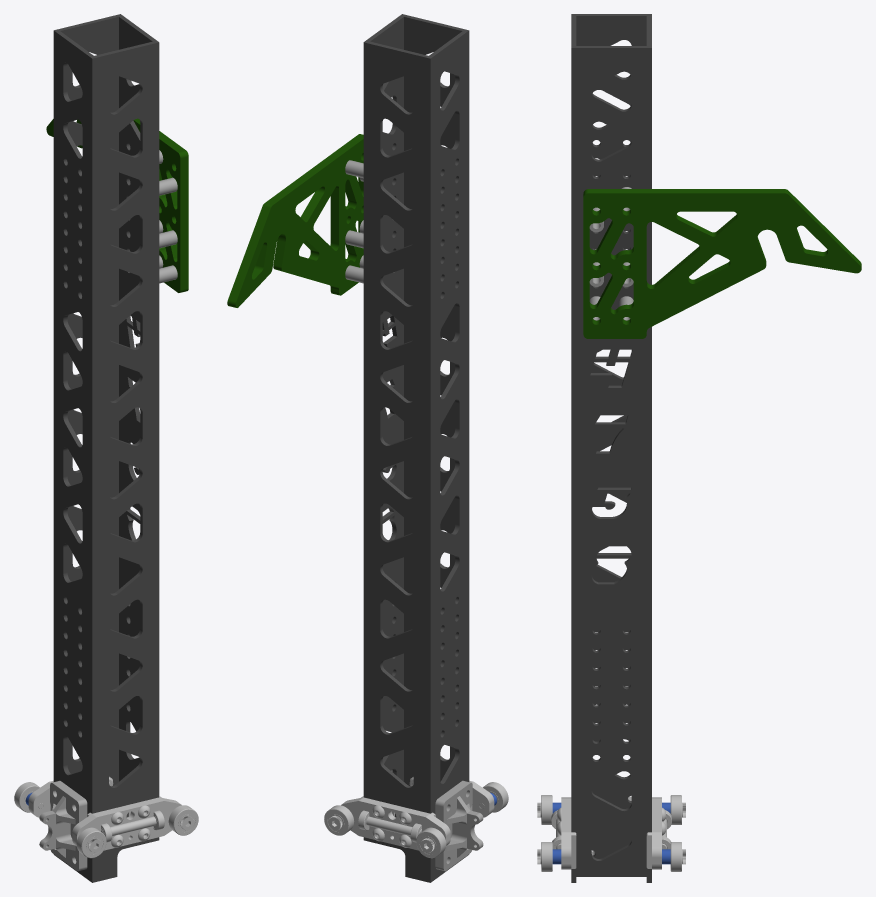
3 renders of one model, left to right at view 1: azimuth 30°, elevation 25°; view 2: azimuth 150°, elevation 25°; view 3: azimuth 270°, elevation 25°, orthographic. The views are drawn at different scales.
Parts seen in each view (by area): view 1: Climb Sliding Tube Right, Part 1, Chain Block, Sliding Bearing Block Plate - SLIDE-001 (×2), TTB-0038_75OD_25ID_28WD (×3), .25diameter_1.75inSteelDowel_SLIDE-002; view 2: Climb Sliding Tube Right, Part 1, Chain Block, Sliding Bearing Block Plate - SLIDE-001 (×2), TTB-0038_75OD_25ID_28WD (×2); view 3: Climb Sliding Tube Right, Part 1, Sliding Bearing Block Plate - SLIDE-001 (×2).
Part boxes in pixels (x1,y1,x2,y2): Climb Sliding Tube Right: (53, 14, 159, 882); Part 1: (46, 118, 188, 292); Chain Block: (39, 780, 87, 871); Sliding Bearing Block Plate - SLIDE-001 (×2): (28, 780, 181, 850); TTB-0038_75OD_25ID_28WD (×3): (14, 782, 198, 858); .25diameter_1.75inSteelDowel_SLIDE-002: (101, 816, 156, 835); Climb Sliding Tube Right: (363, 14, 469, 882); Part 1: (227, 134, 363, 307); Chain Block: (435, 780, 483, 871); Sliding Bearing Block Plate - SLIDE-001 (×2): (341, 770, 494, 850); TTB-0038_75OD_25ID_28WD (×2): (324, 805, 446, 858); Climb Sliding Tube Right: (571, 14, 651, 882); Part 1: (583, 189, 861, 338); Sliding Bearing Block Plate - SLIDE-001 (×2): (561, 797, 661, 869).
Size of the model in its own units: 0.1014 by 0.5969 by 0.2049.
